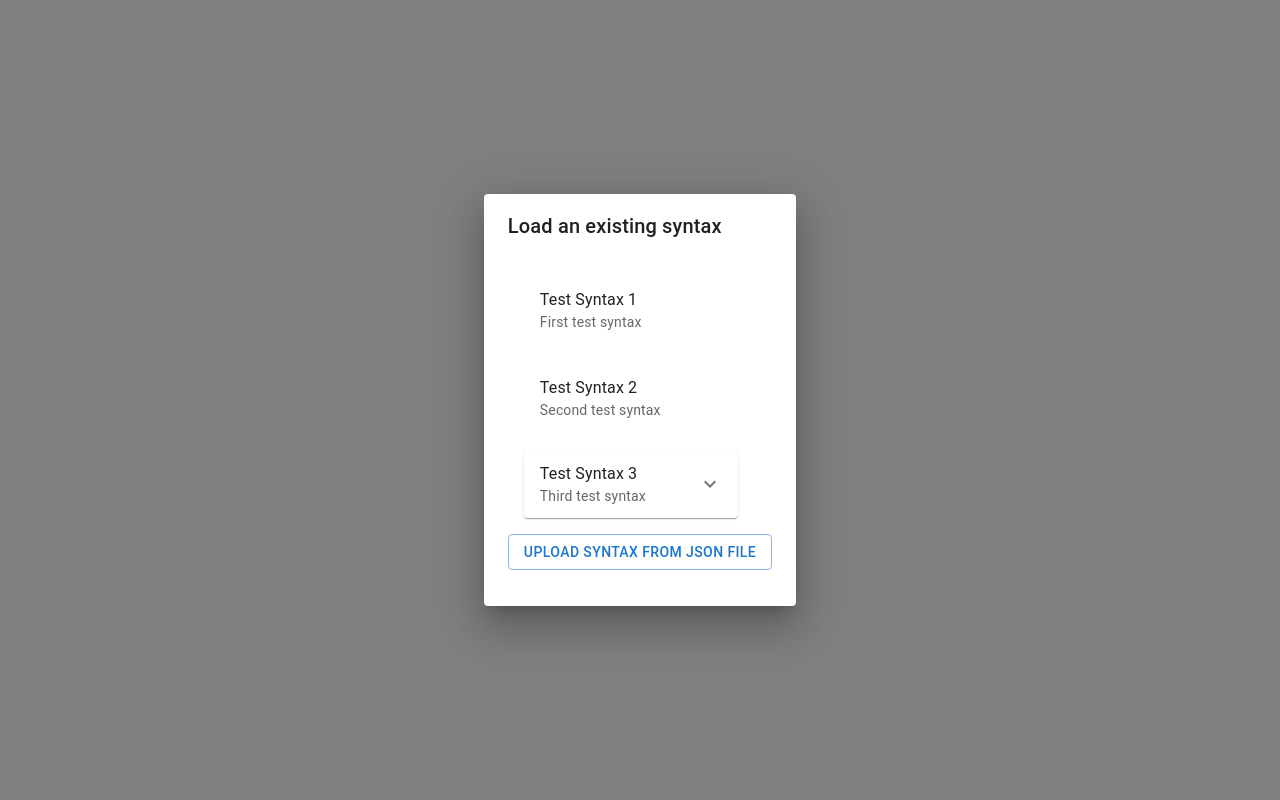
<ExistingSyntaxDialog /> › clears error message when selecting a different syntax after error
# Click first syntax (fails)
Click the text "Test Syntax 1". click: [589, 300]
box: [540,290,637,309]
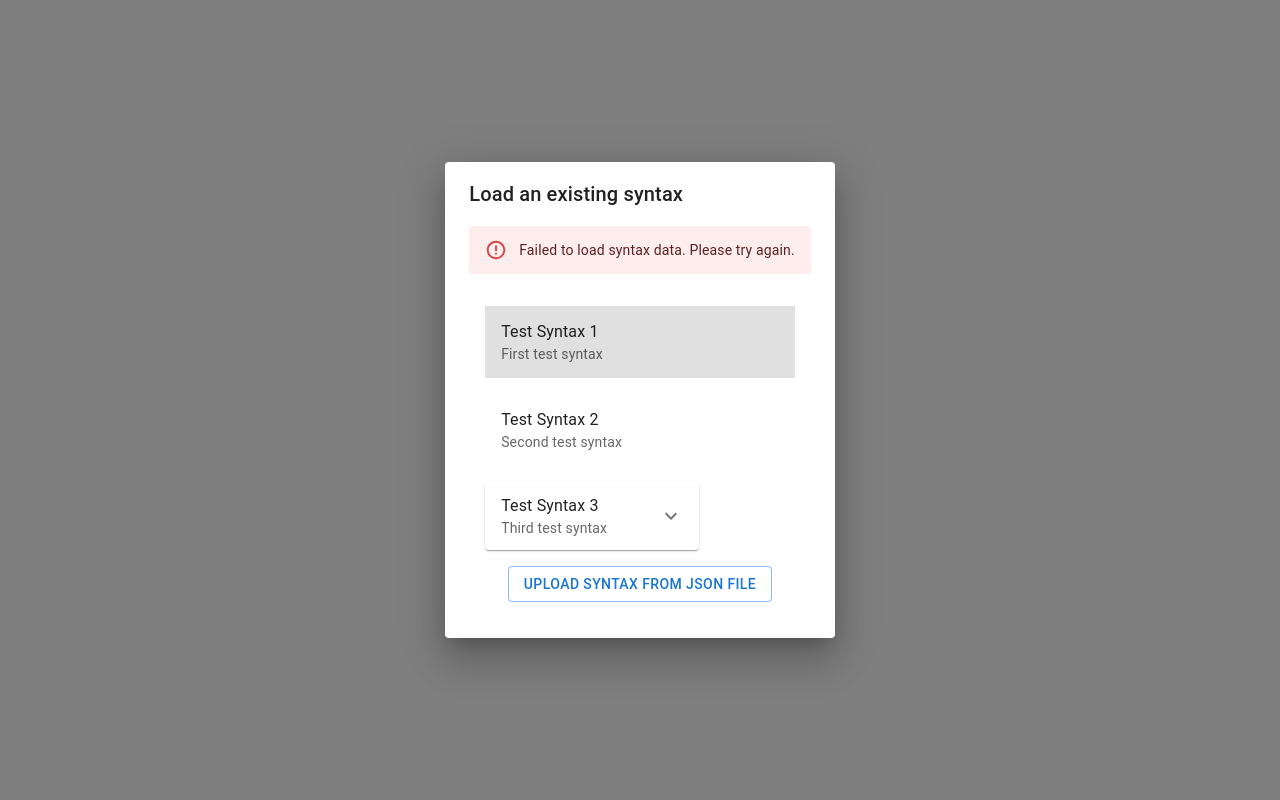
Expected: the text "Failed to load syntax data. Please try again." is shown, [519,242,795,258]
# Click second syntax (succeeds) - error should be cleared
Click the text "Test Syntax 2". click: [550, 420]
box: [501,410,598,429]
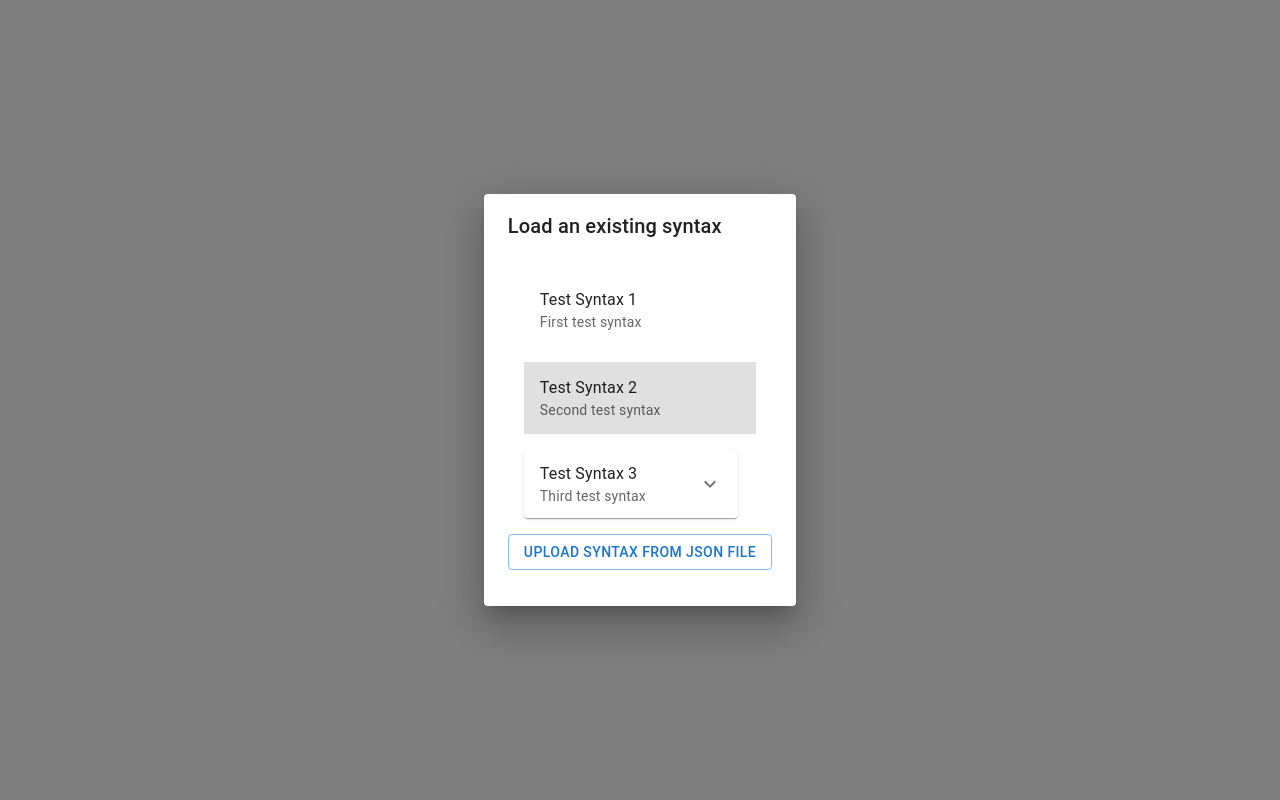
Expected: the text "Failed to load syntax data. Please try again." is gone
